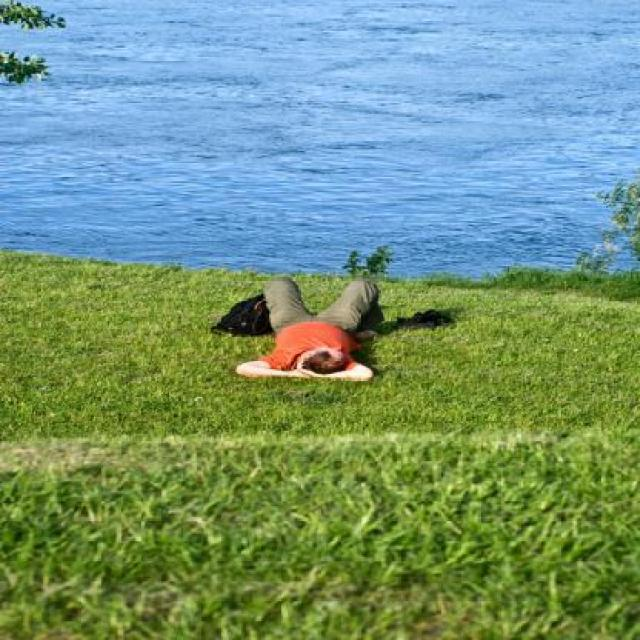Person: (224, 248, 384, 386)
